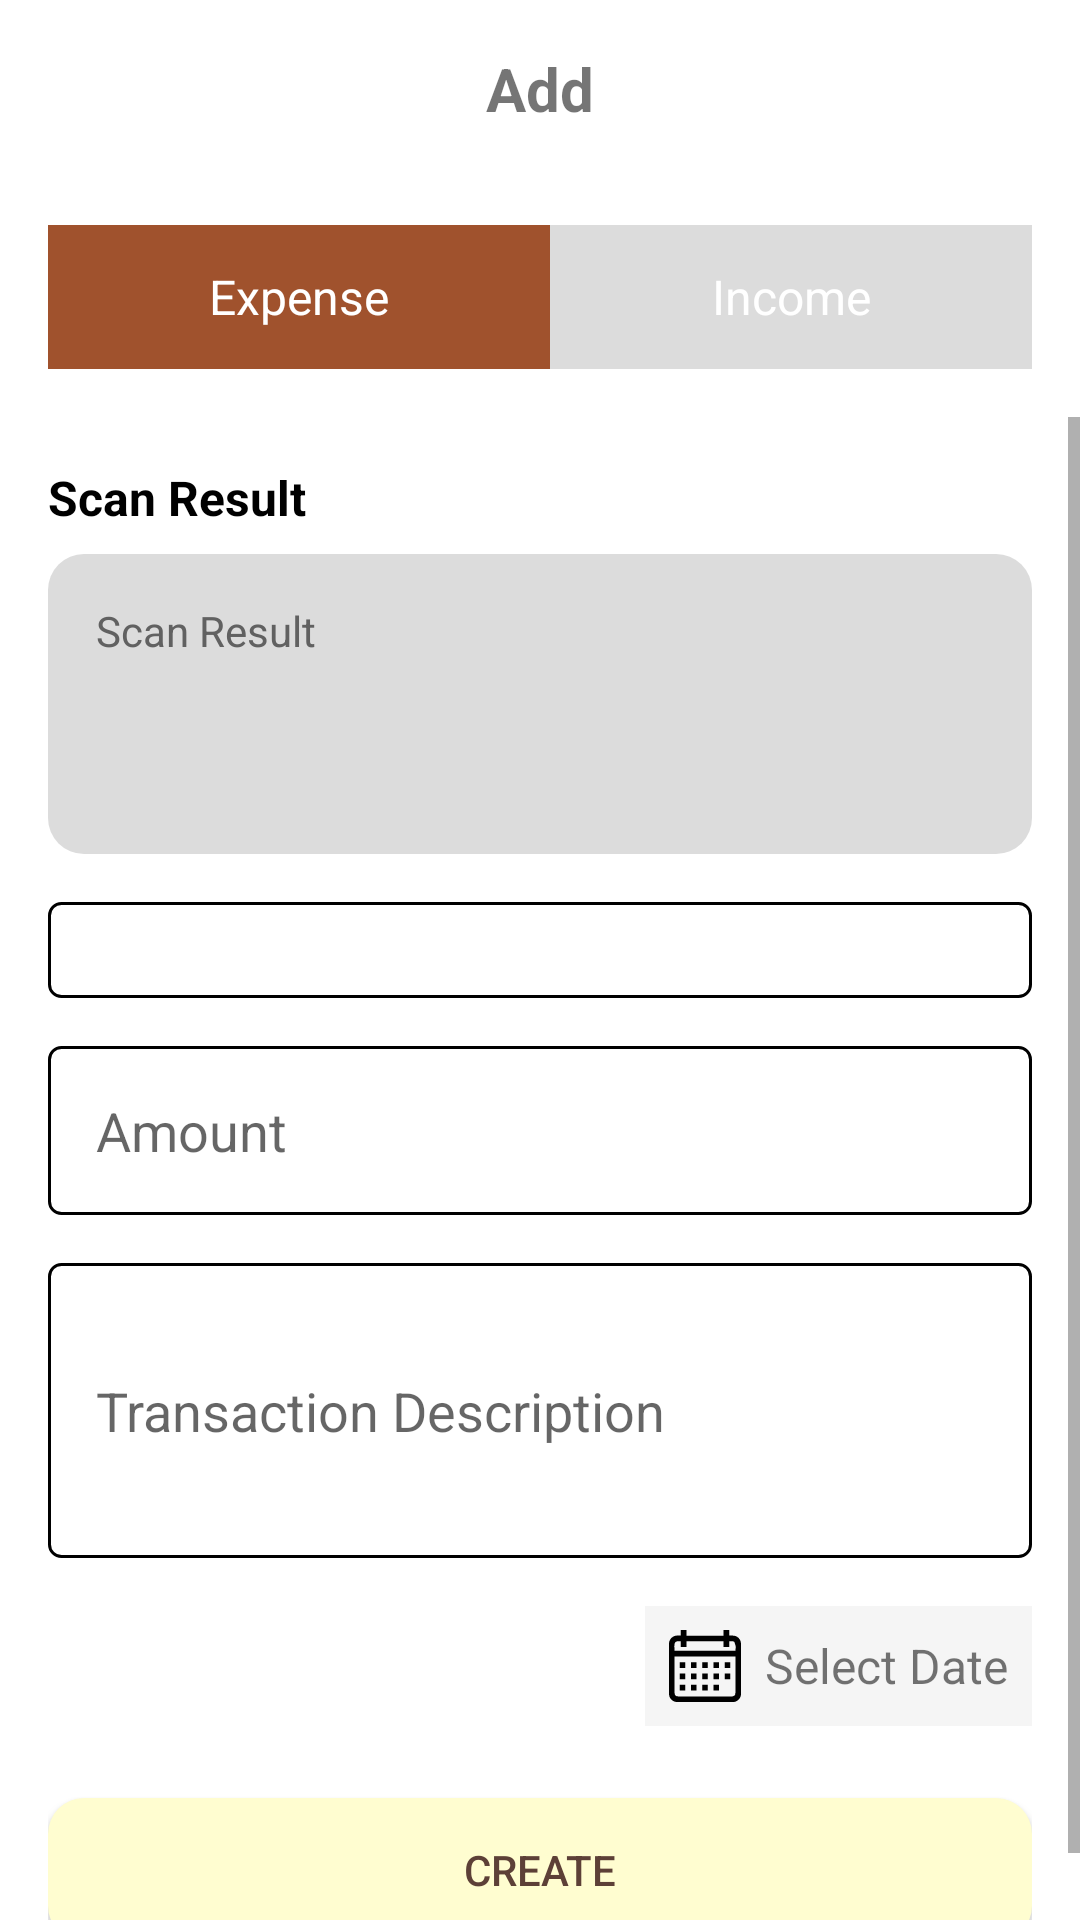

Screen size 1080×1920. Icon name, then its center in pixels as (x,y):
Calendar: (705,1666)
